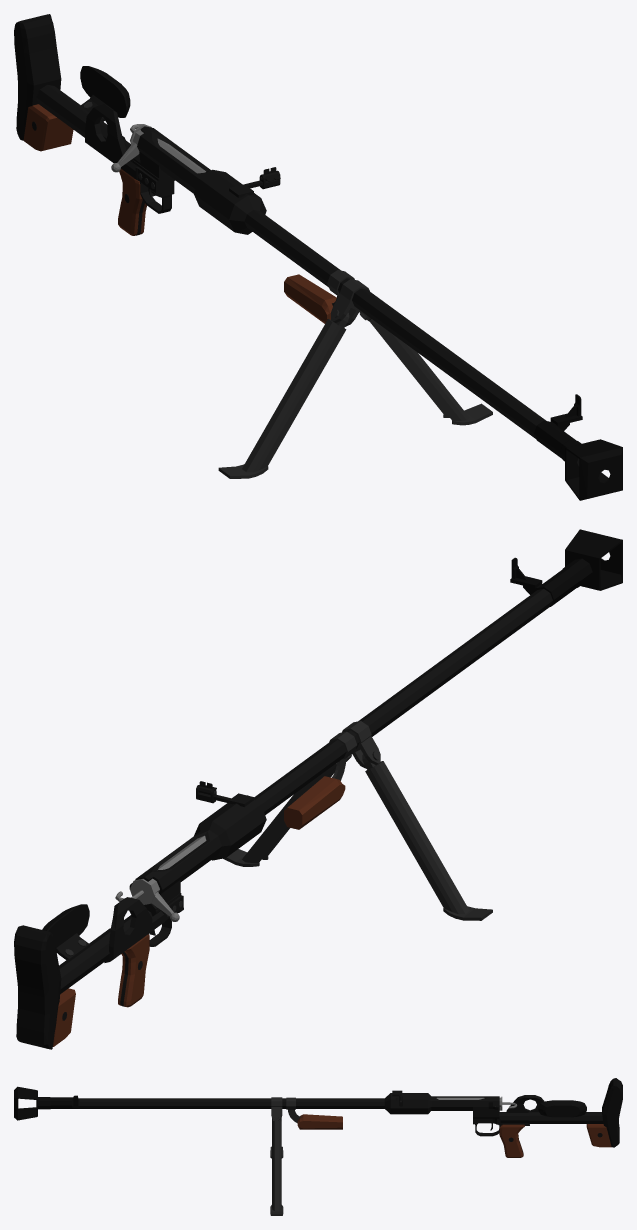
File: PTRD-41 1.obj
The picture shows the model from 3 angles, top to bottom: view 1: azimuth 30°, elevation 25°; view 2: azimuth 150°, elevation 25°; view 3: azimuth 270°, elevation 25°; orthographic projection. The views are drawn at different scales.
Visible parts, largest first — view 1: PTRD-41_1, PTRD-41_1_Stock_1, PTRD-41_1_Bipod_1.001, PTRD-41_1_Bipod_1, PTRD-41_1_Carry_Handle_1, PTRD-41_1_Bolt_1; view 2: PTRD-41_1, PTRD-41_1_Stock_1, PTRD-41_1_Bipod_1.001, PTRD-41_1_Carry_Handle_1, PTRD-41_1_Bipod_1, PTRD-41_1_Bolt_1; view 3: PTRD-41_1, PTRD-41_1_Stock_1, PTRD-41_1_Bipod_1, PTRD-41_1_Carry_Handle_1.
Part boxes in pixels (box(x1,y1,x2,y2)): PTRD-41_1: box(118, 126, 622, 500); PTRD-41_1_Stock_1: box(14, 14, 160, 193); PTRD-41_1_Bipod_1.001: box(218, 309, 349, 478); PTRD-41_1_Bipod_1: box(360, 312, 492, 425); PTRD-41_1_Carry_Handle_1: box(284, 270, 354, 323); PTRD-41_1_Bolt_1: box(111, 125, 205, 173); PTRD-41_1: box(118, 529, 622, 1007); PTRD-41_1_Stock_1: box(14, 895, 183, 1049); PTRD-41_1_Bipod_1.001: box(362, 751, 492, 920); PTRD-41_1_Carry_Handle_1: box(284, 731, 357, 829); PTRD-41_1_Bipod_1: box(223, 755, 351, 866); PTRD-41_1_Bolt_1: box(130, 835, 206, 921); PTRD-41_1: box(14, 1086, 529, 1157); PTRD-41_1_Stock_1: box(499, 1078, 622, 1147); PTRD-41_1_Bipod_1: box(270, 1114, 283, 1215); PTRD-41_1_Carry_Handle_1: box(286, 1097, 342, 1129).
Size of the model in its own units: 0.5004 by 0.3507 by 1.9.
